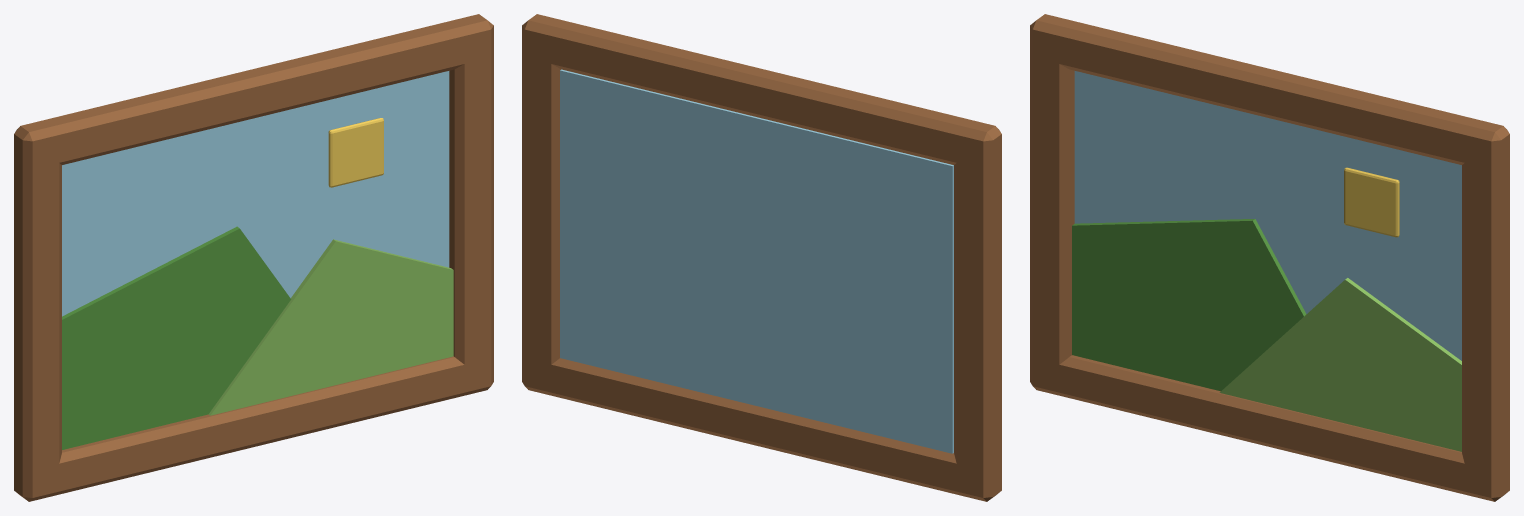
Rendered from picture_frame.glb.
3 renders of one model, left to right at view 1: azimuth 30°, elevation 25°; view 2: azimuth 150°, elevation 25°; view 3: azimuth 330°, elevation 25°, orthographic.
Parts seen in each view (by area): view 1: picture_frame; view 2: picture_frame; view 3: picture_frame.
Boxes of the visible parts, x1,y1,x2,y2 form: picture_frame: (14,14,493,501); picture_frame: (522,14,1001,501); picture_frame: (1030,14,1509,501).
Size of the model in its own units: 0.6 by 0.45 by 0.035.
1 material, 1 textured.
